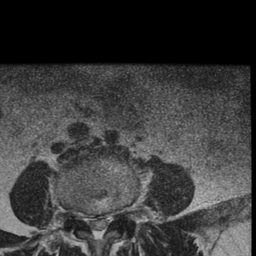CCS_normal: (94, 204, 102, 248)
LFS_stenosis: (112, 199, 121, 228)
LLS_normal: (102, 203, 112, 237)
RFS_normal: (75, 200, 85, 229)
RLS_normal: (85, 204, 94, 239)
